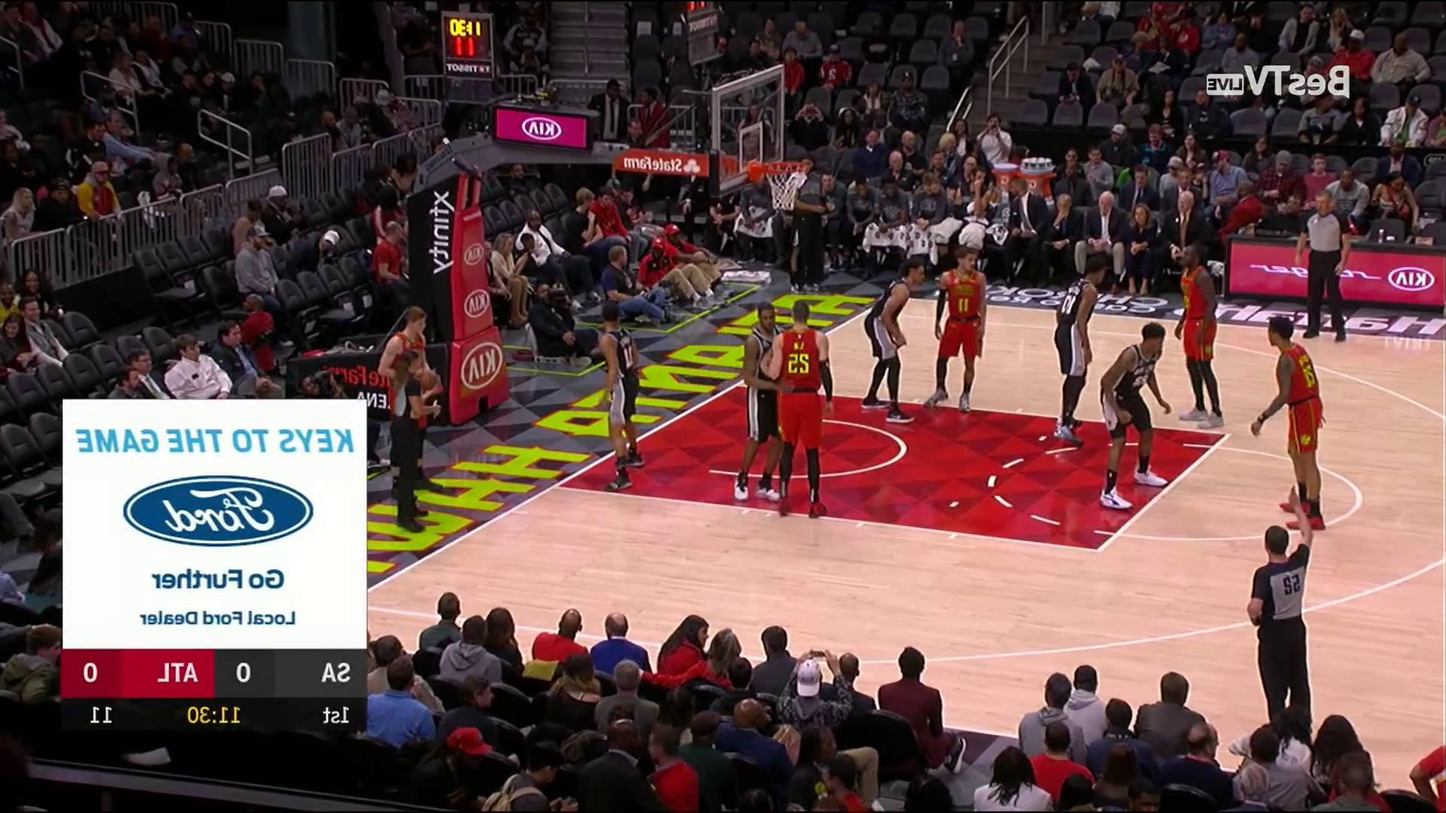basketball: (417, 368, 441, 393), (119, 344, 121, 345)
